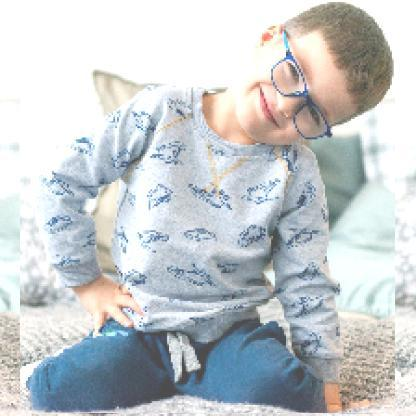child: (21, 1, 397, 415)
